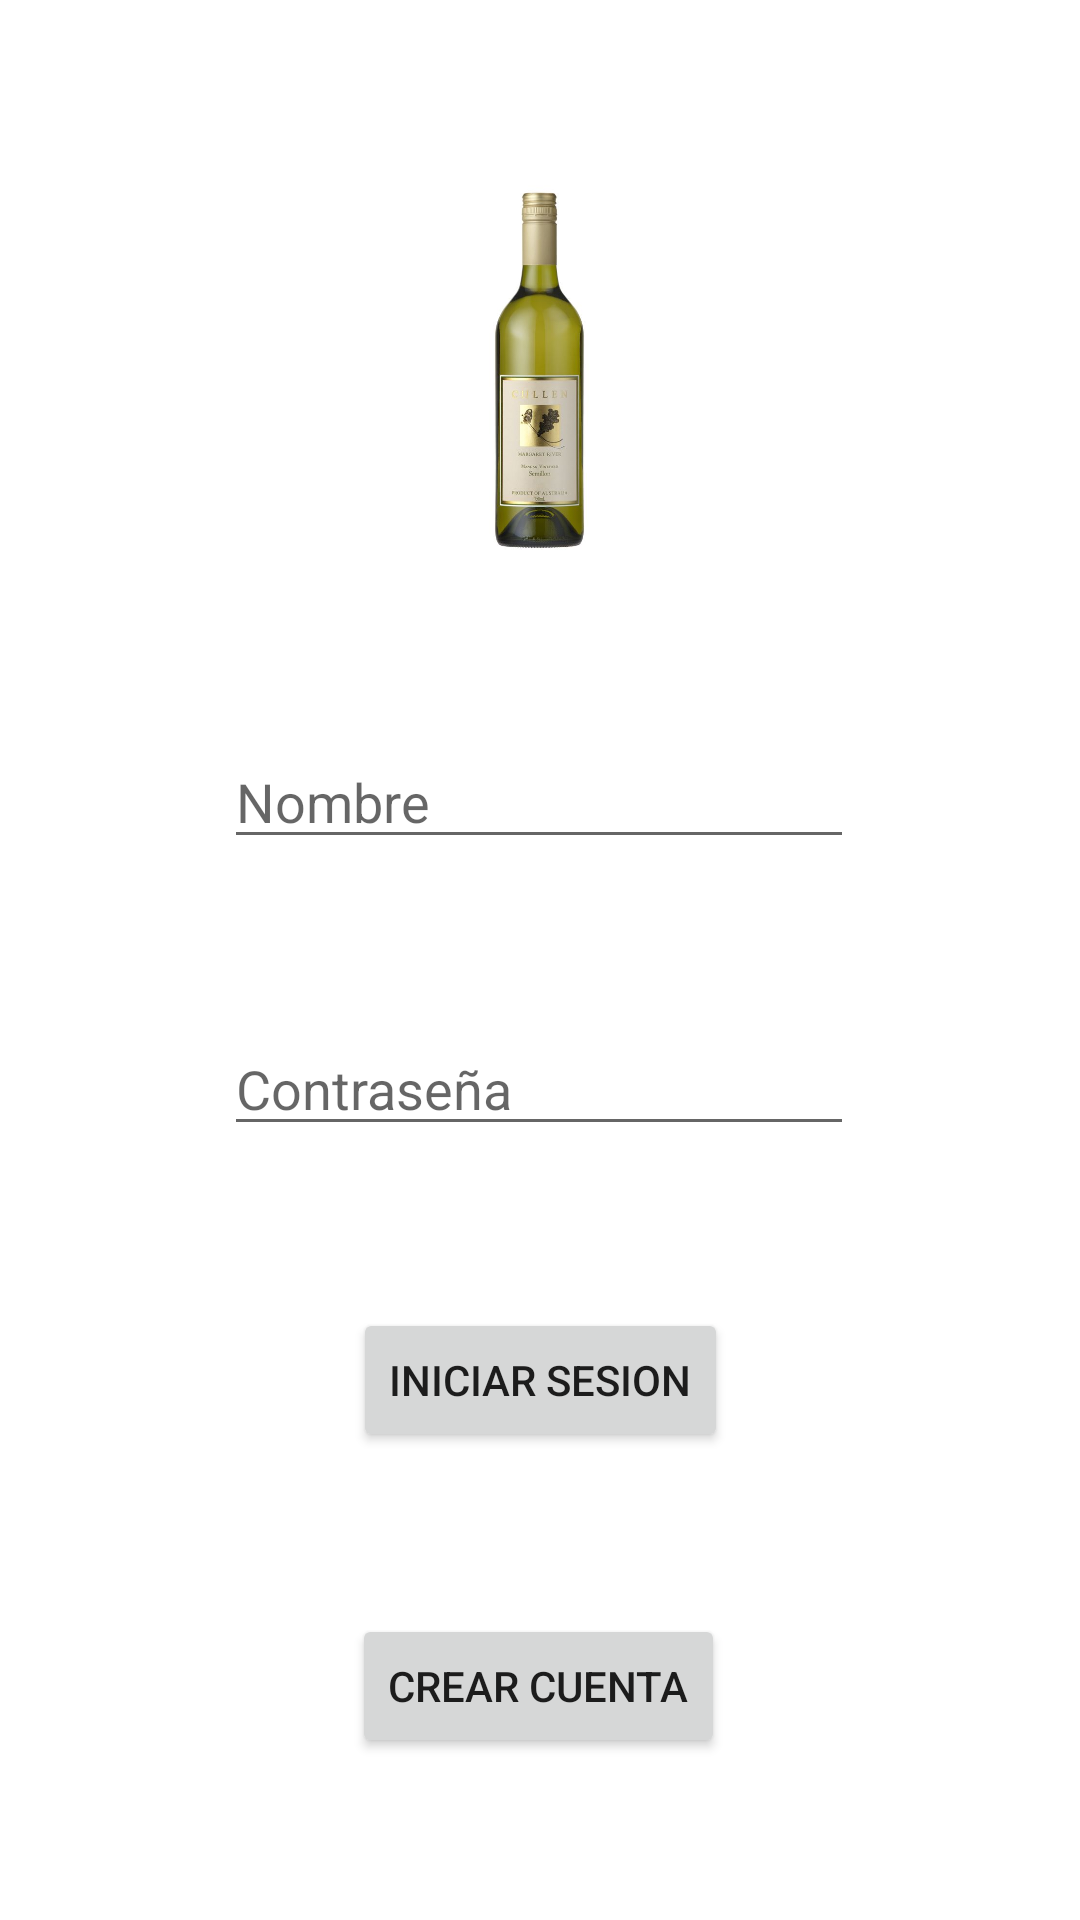

Named icons in this screenshot (1080w x 1920h) and their centers, point (x, y):
wine bottle: point (539, 370)
